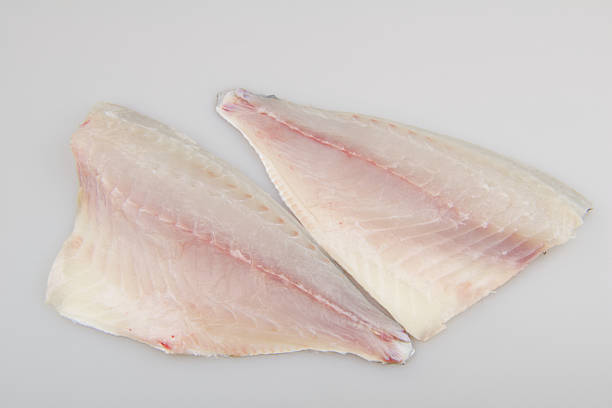bream-fish: (44, 102, 415, 366), (214, 88, 593, 343)
